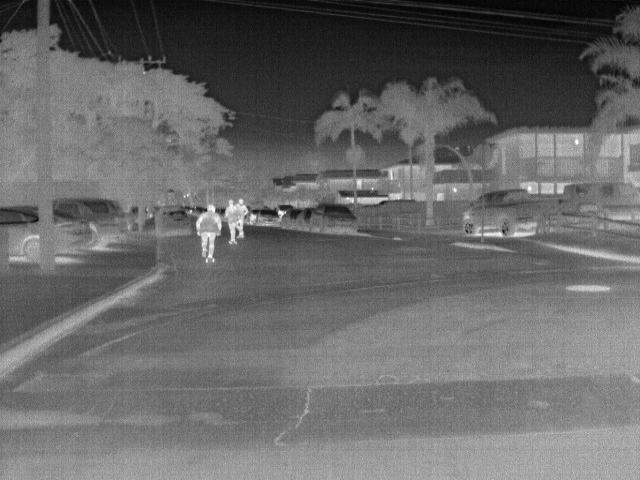car: (53, 197, 131, 253), (484, 188, 564, 236), (1, 204, 38, 266), (55, 211, 102, 258), (313, 204, 362, 236), (154, 205, 196, 240), (462, 194, 483, 236), (256, 207, 285, 227), (300, 206, 319, 232), (281, 207, 302, 229)
person: (195, 202, 224, 262), (224, 198, 241, 244), (236, 197, 250, 236)
